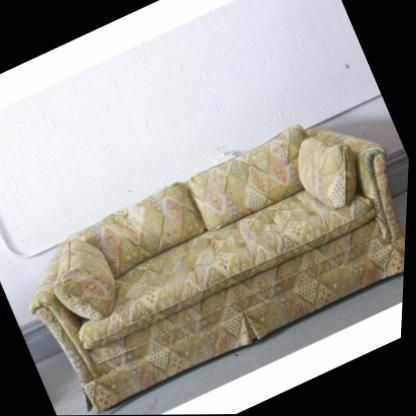Sofa: (5, 95, 413, 416)
